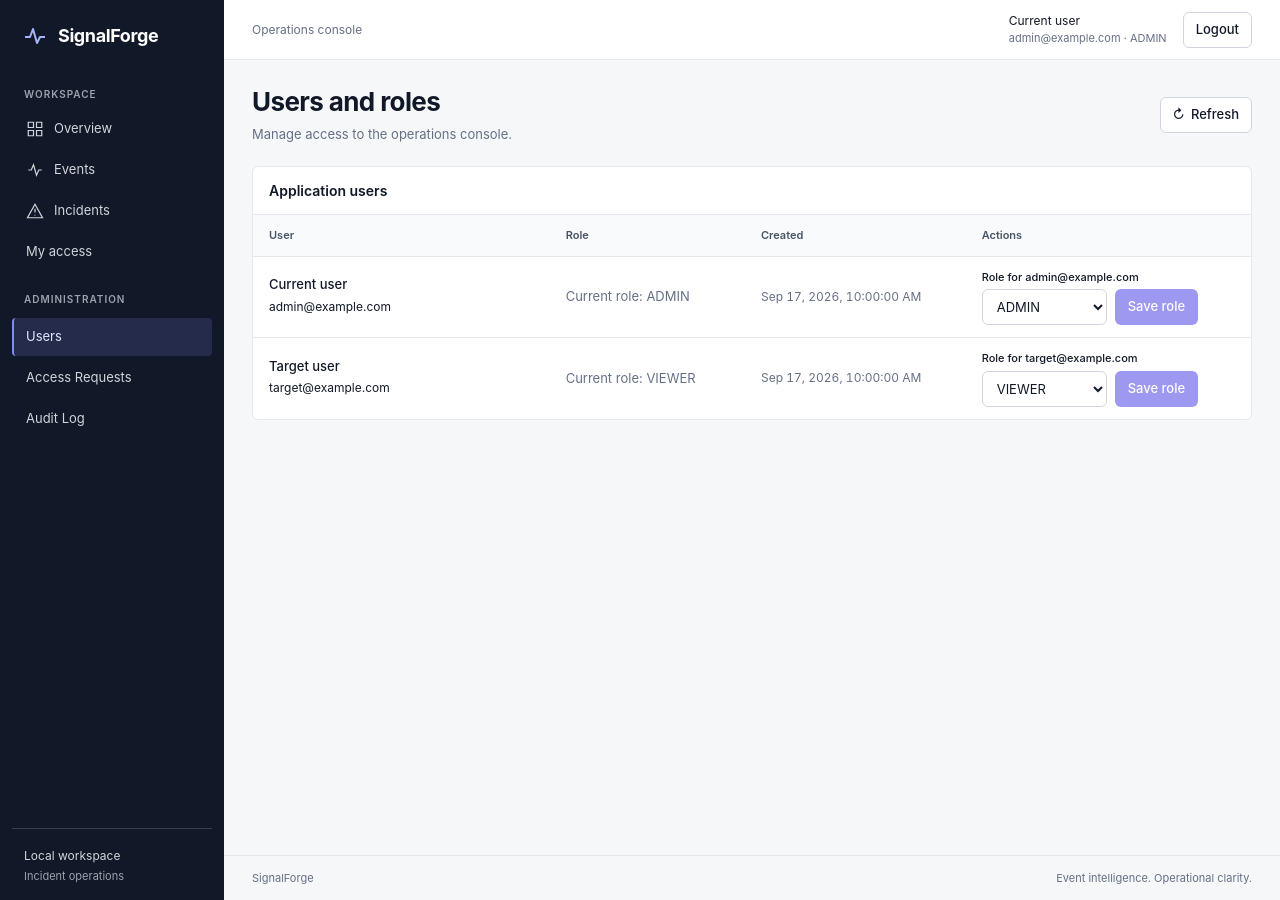
shows role-save errors and retains the current server role
The width and height of the screenshot is (1280, 900).
Select "OPERATOR" in the dropdown labelled "Role for target@example.com" at (1044, 388), box top-left (982, 370), bottom-right (1107, 406)
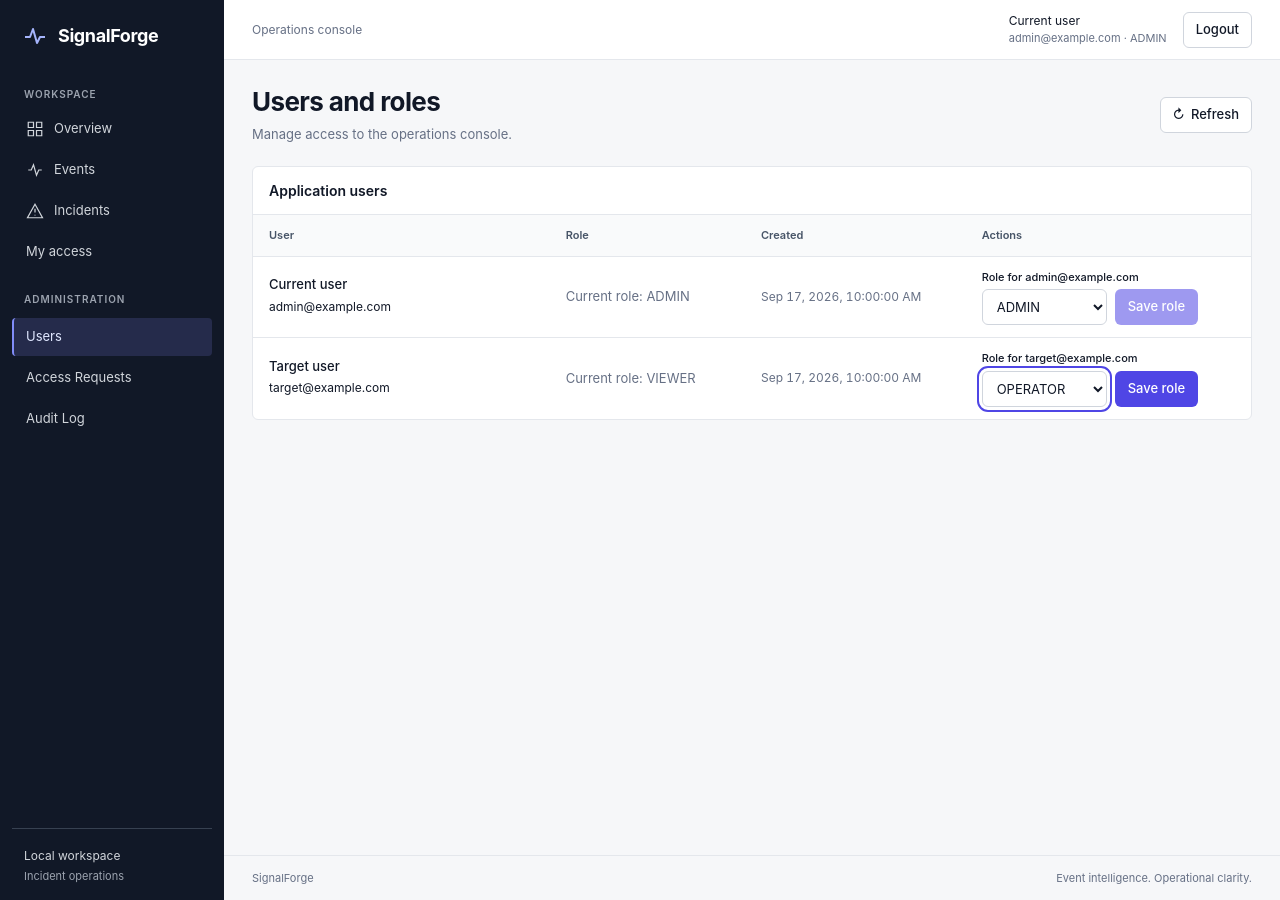
Click the button "Save role" in the row of "VIEWER" at (1156, 388), box top-left (1115, 370), bottom-right (1198, 406)
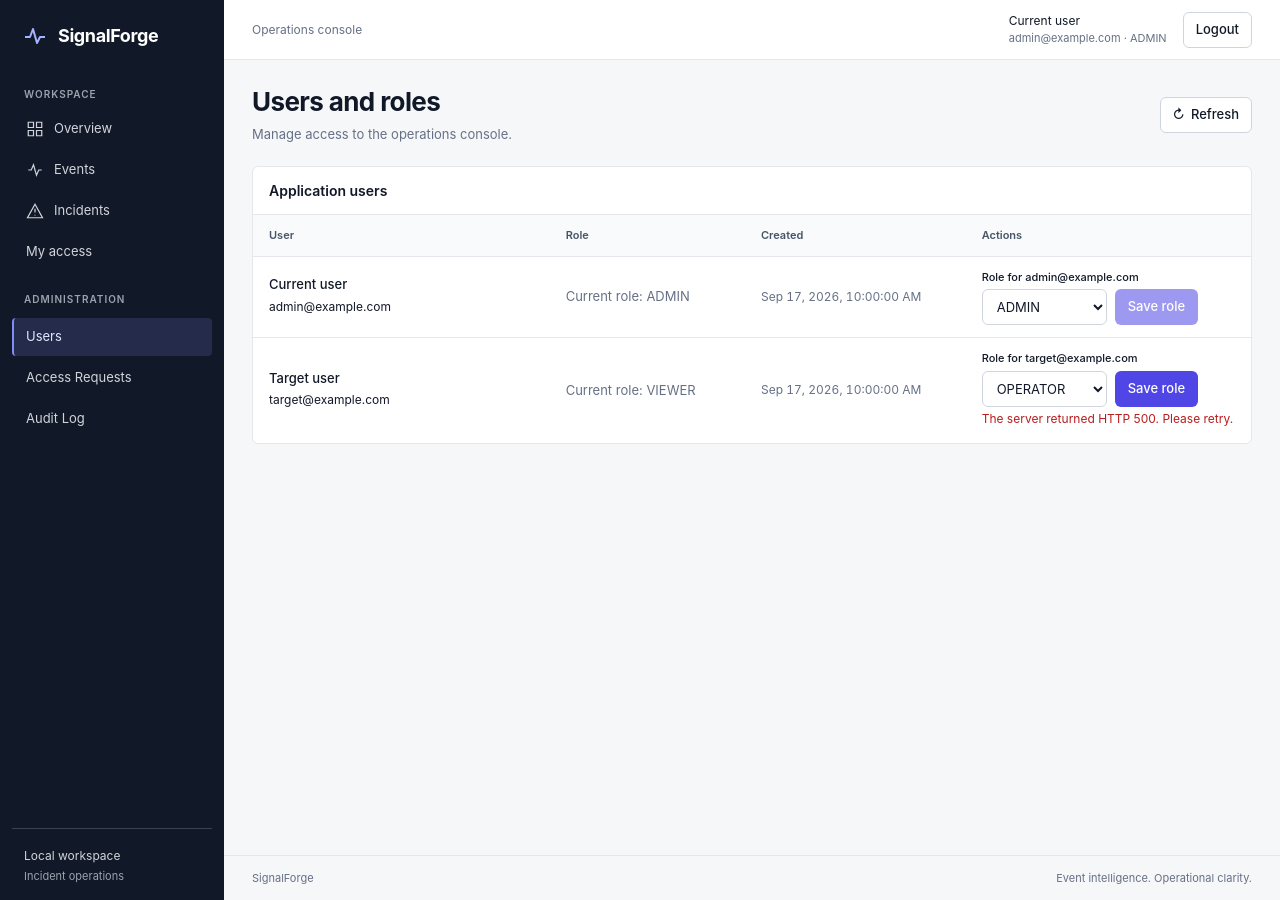
Expected: the element "target@example.com" shows "Current role: VIEWER", top-left (253, 338), bottom-right (1251, 442)
Expected: the button "Save role" in the row of "VIEWER" is enabled, top-left (1115, 370), bottom-right (1198, 406)
Expected: the message shows "HTTP 500", top-left (982, 410), bottom-right (1233, 426)
